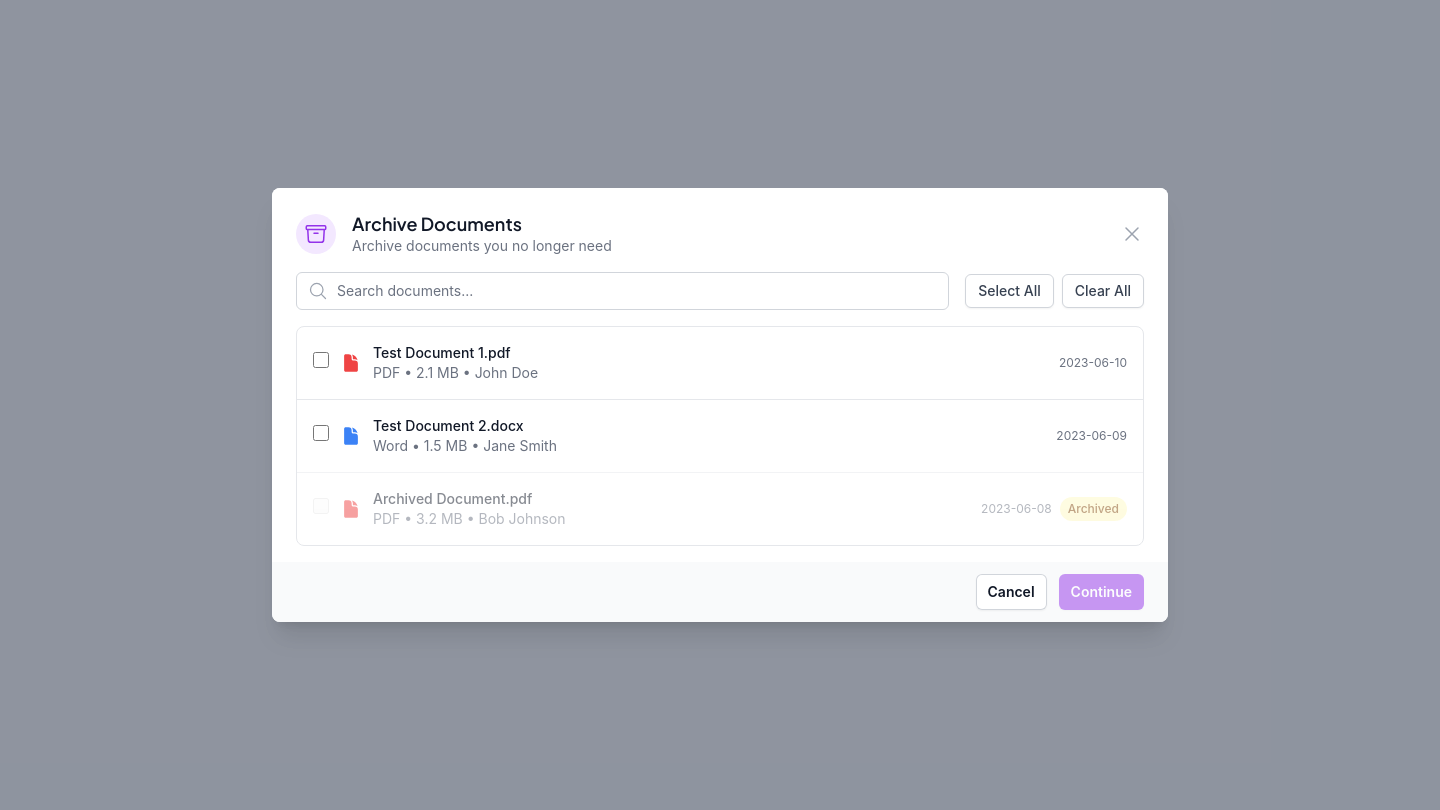
Test: ArchiveDocumentsModal › handles select all functionality
Click the button "Select All". click: (1010, 291)
box: [965,274,1054,308]
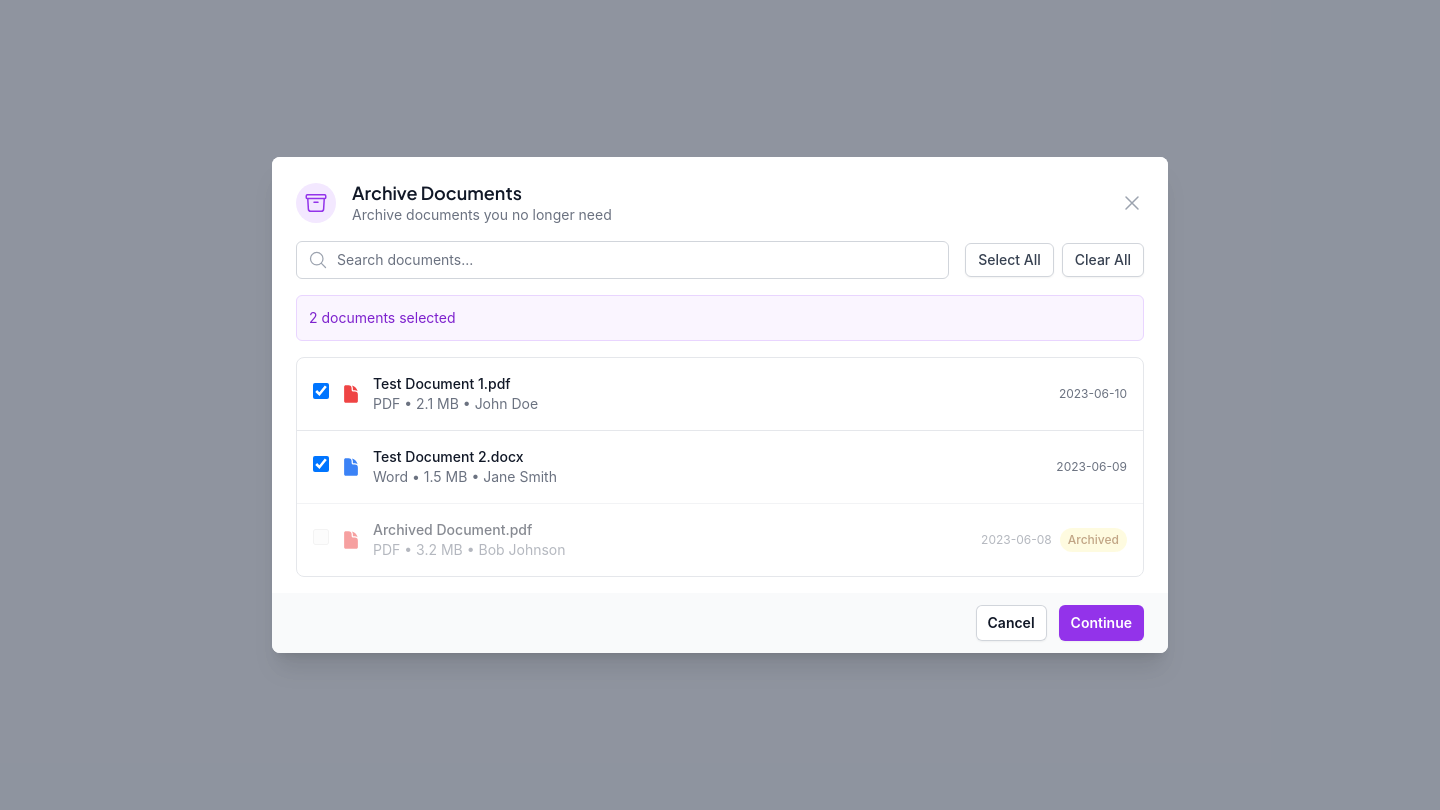
Result: the checkbox next to "Test Document 1.pdf" is checked at [313,383,329,399]
Result: the checkbox next to "Test Document 2.docx" is checked at [313,456,329,472]
